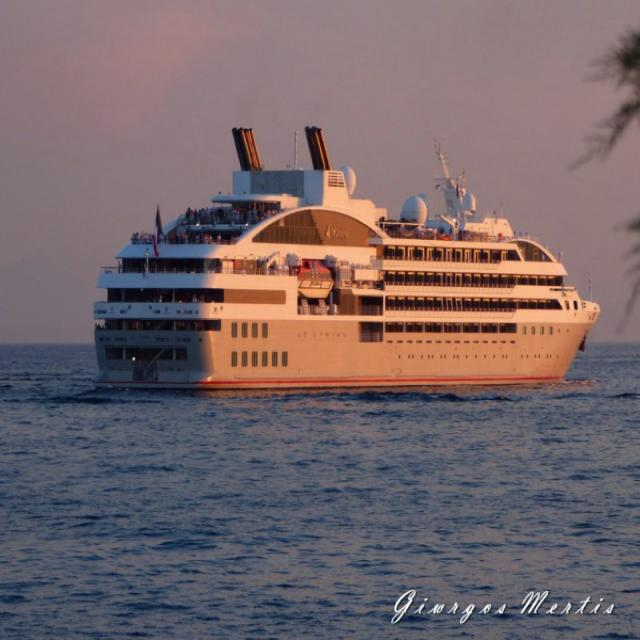cruises: (86, 122, 605, 394)
